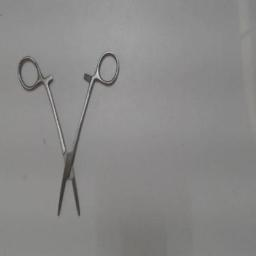Mayo Needle Holder: (14, 49, 124, 221)
